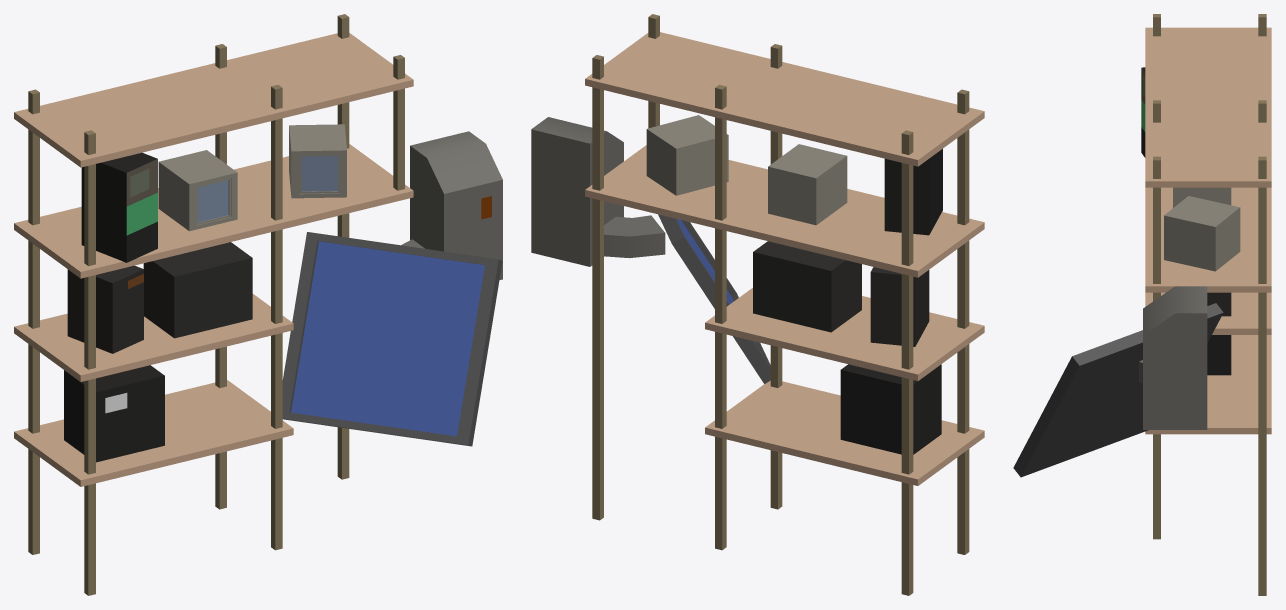
File: shelfAndScreenProp.fbx
3 views of the same model, side by side, from view 1: azimuth 30°, elevation 25°; view 2: azimuth 150°, elevation 25°; view 3: azimuth 270°, elevation 25° (orthographic). The views are drawn at different scales.
Visible parts, largest first — view 1: polySurface12, polySurface7; view 2: polySurface12, polySurface7; view 3: polySurface12, polySurface7.
Boxes of the visible parts, <box> form: polySurface12: <box>14,14,413,595</box>; polySurface7: <box>282,131,502,446</box>; polySurface12: <box>585,14,984,595</box>; polySurface7: <box>531,117,770,383</box>; polySurface12: <box>1141,14,1271,595</box>; polySurface7: <box>1013,286,1223,477</box>.
Size of the model in its own units: 7.14 by 7.47 by 4.02.
